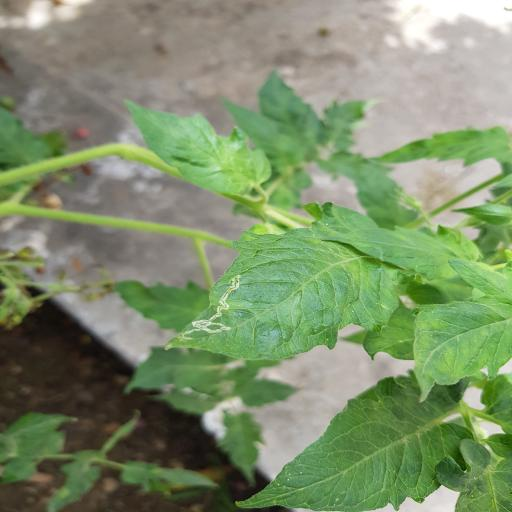Healthy: (248, 374, 474, 512), (120, 93, 275, 195)
Leaf_Miner: (170, 228, 401, 363)
